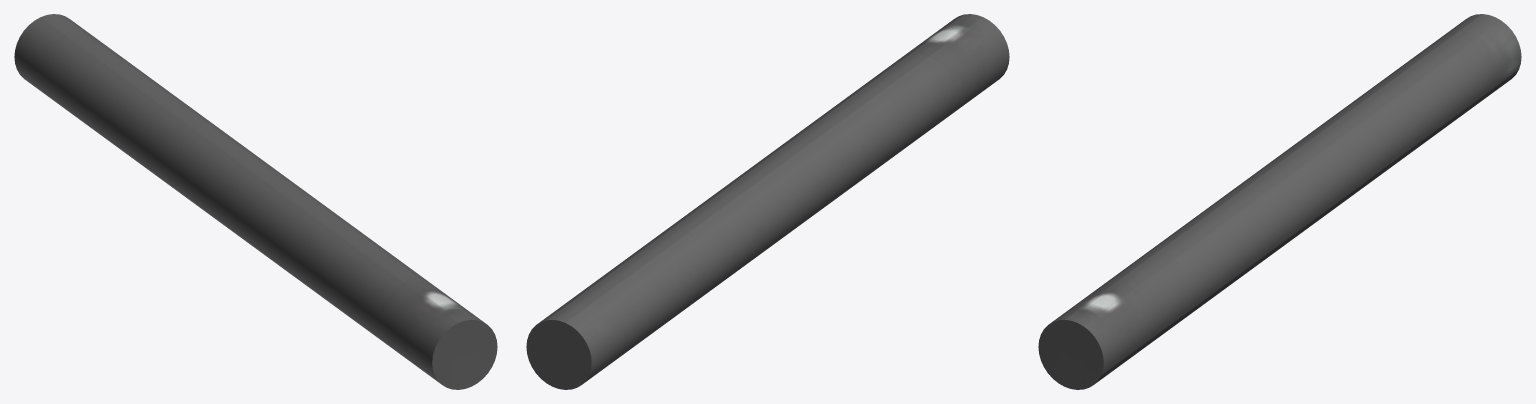
File: center_frame__back_hinge_post_1.glb
3 renders of one model, left to right at view 1: azimuth 30°, elevation 25°; view 2: azimuth 150°, elevation 25°; view 3: azimuth 330°, elevation 25°, orthographic.
Parts seen in each view (by area): view 1: world; view 2: world; view 3: world.
Part boxes in pixels (<box>): world: <box>14,14,497,389</box>; world: <box>526,14,1009,389</box>; world: <box>1038,14,1521,389</box>.
Size of the model in its own units: 0.028 by 0.028 by 0.31.
1 material, 1 textured.
